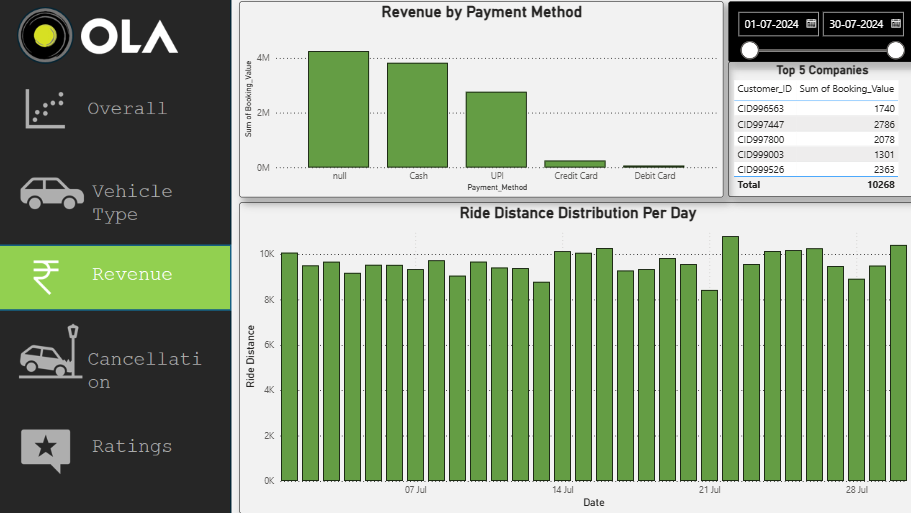

What the dashboard file says about the page in this screenshot:
{"tool":"powerbi","page":{"name":"Revenue","canvas":[1280,720],"ordinal":2},"visuals":[{"type":"actionButton","box":[0,228.1,324.6,93],"z":0},{"type":"actionButton","box":[0,345.6,324.6,84.2],"z":1000},{"type":"actionButton","box":[0,456.1,324.6,93],"z":2000},{"type":"actionButton","box":[0,575.4,324.6,93],"z":3000},{"type":"actionButton","box":[0,110.5,324.6,89.5],"z":4000},{"type":"columnChart","title":"Revenue by Payment Method","fields":{"Y":["Sum(July (2).Booking_Value)"],"Category":["July (2).Payment_Method"]},"box":[335.5,2.7,671.8,271.8],"z":5000},{"type":"tableEx","title":"Top 5 Companies","fields":{"Values":["July (2).Customer_ID","Sum(July (2).Booking_Value)"]},"box":[1014,86,259.6,187.7],"z":6000},{"type":"columnChart","title":"Ride Distance Distribution Per Day","fields":{"Y":["Sum(July (2).Ride_Distance)"],"Category":["July (2).Date"]},"box":[335.7,280.4,939.3,432.1],"z":6001},{"type":"slicer","fields":{"Values":["July (2).Date"]},"box":[1014,1.8,259.6,84.2],"z":6002}]}

Visuals, with their boxes in screenshot pixels (x1, y1, x2, y2), scaled from the page's 1280x720 canvas onto the 911x513 screenshot:
actionButton: 0/163/231/229
actionButton: 0/246/231/306
actionButton: 0/325/231/391
actionButton: 0/410/231/476
actionButton: 0/79/231/142
"Revenue by Payment Method" columnChart: 239/2/717/196
"Top 5 Companies" tableEx: 722/61/906/195
"Ride Distance Distribution Per Day" columnChart: 239/200/907/508
slicer - July (2).Date: 722/1/906/61
